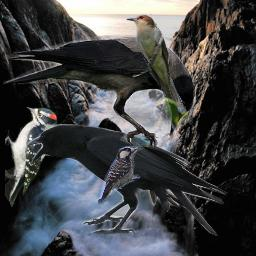Crow: (26, 124, 228, 236), (3, 35, 196, 147)
Cuckoo: (126, 14, 188, 131)
Woodpecker: (5, 104, 59, 207), (94, 144, 143, 207)
